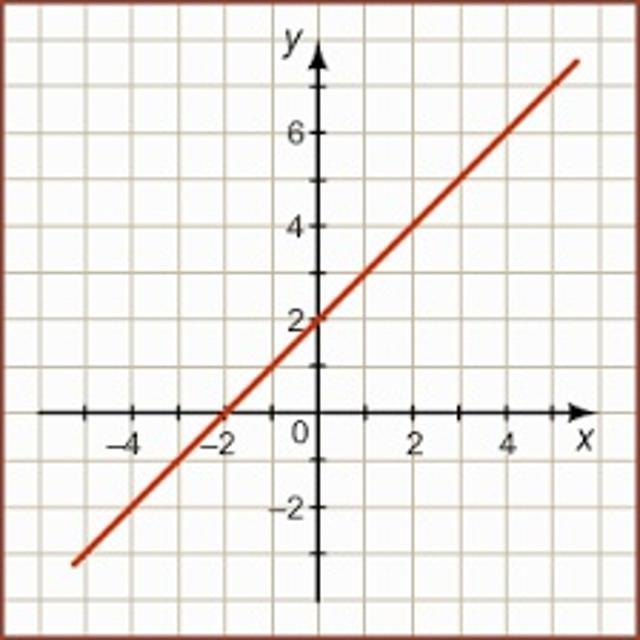axis: (306, 25, 330, 608), (37, 403, 613, 424)
line: (67, 53, 590, 571)
